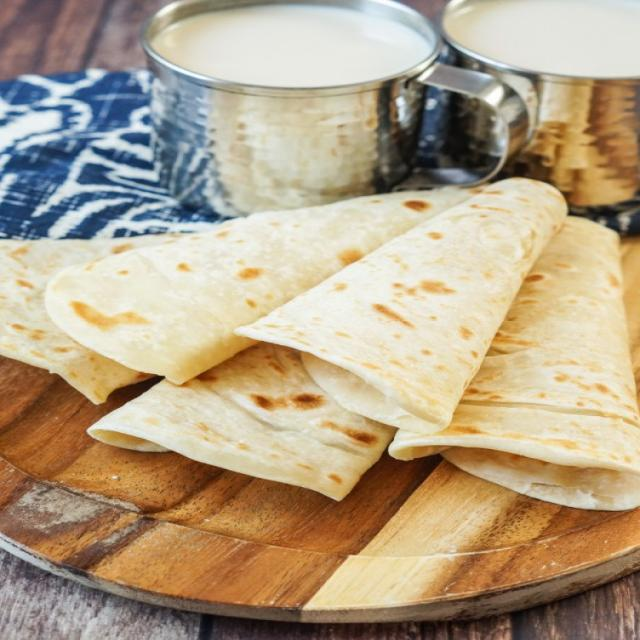roti: (240, 178, 566, 434), (45, 187, 470, 383), (390, 217, 639, 509), (90, 343, 393, 499), (0, 235, 172, 403)
